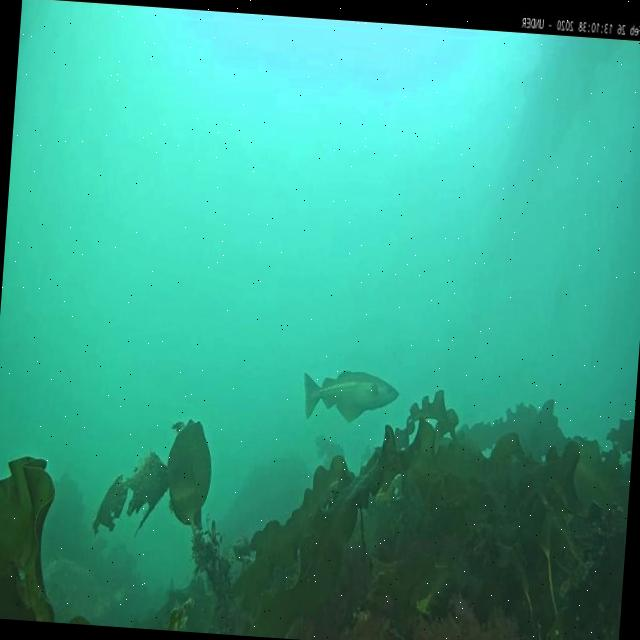fish: (300, 367, 398, 426)
